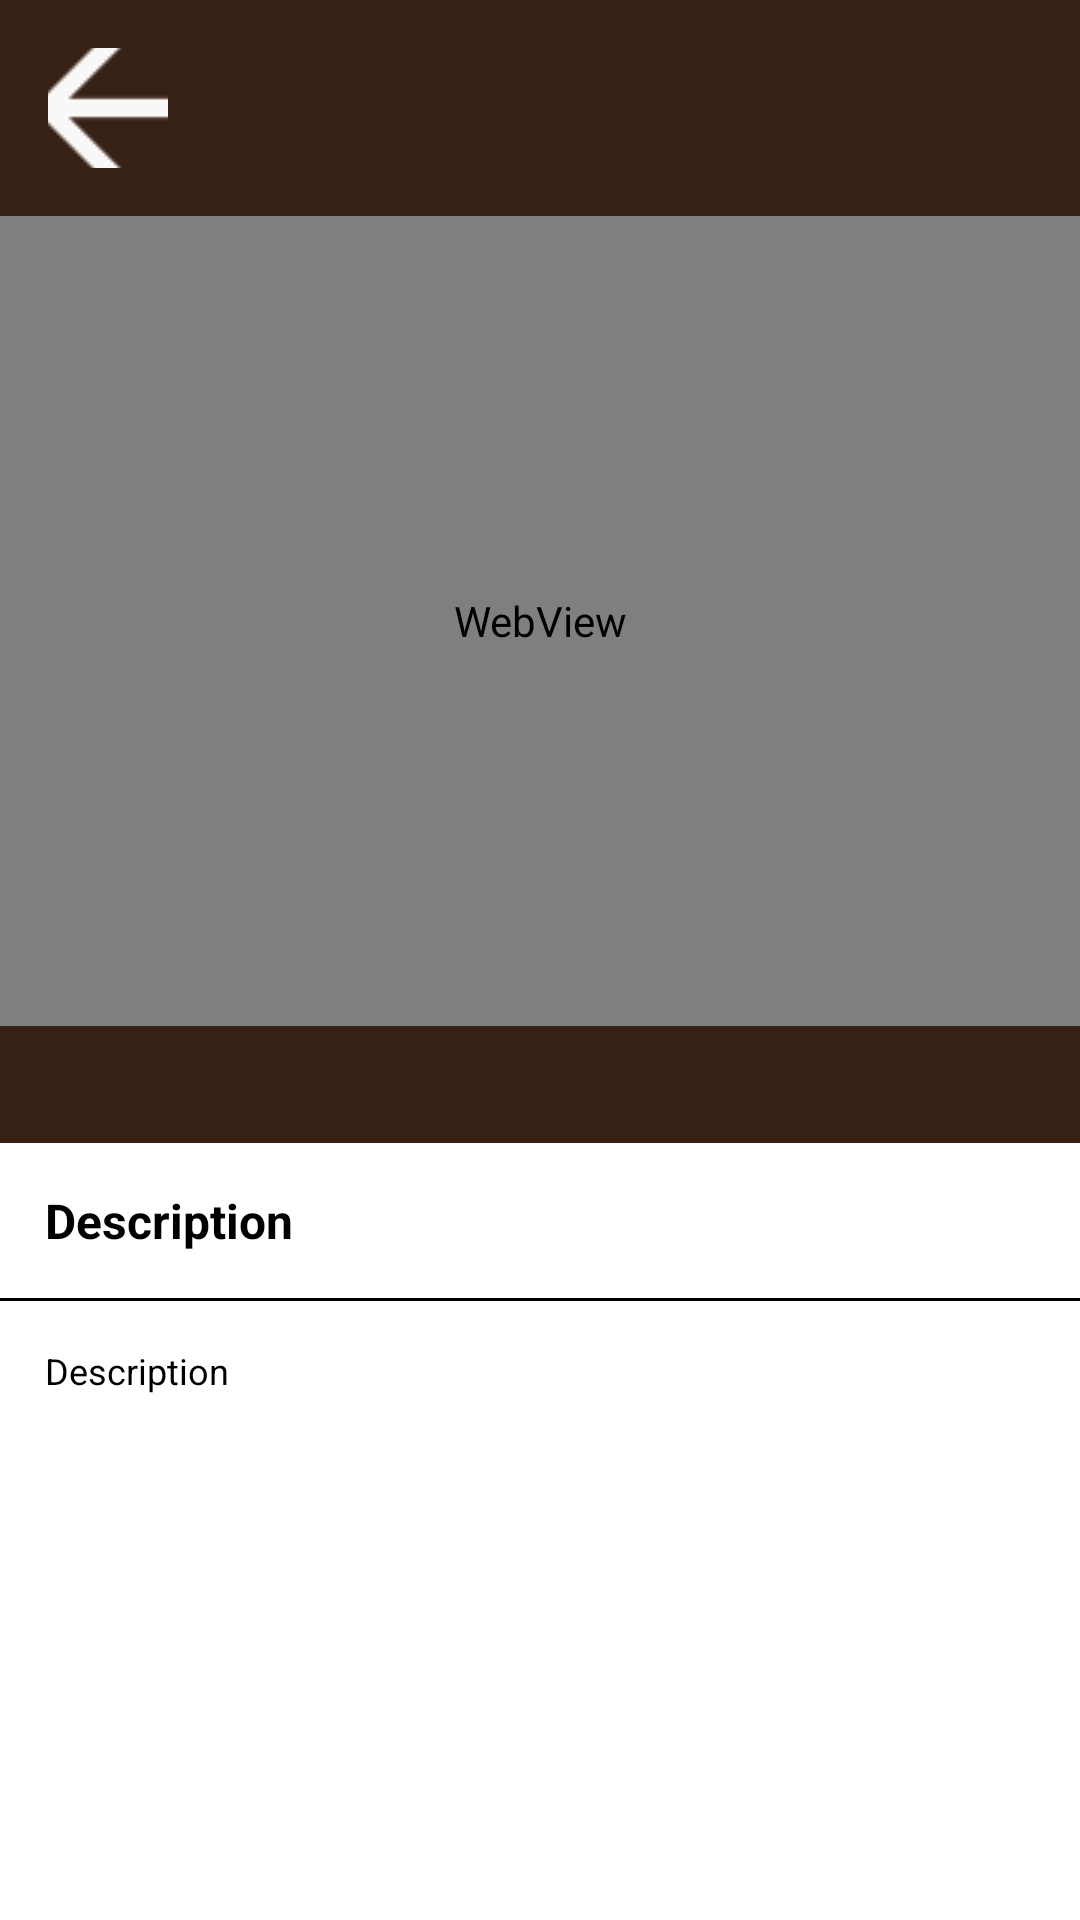

Named icons in this screenshot (1080 × 1920) and their centers, [x,y]:
back: [108,108]
